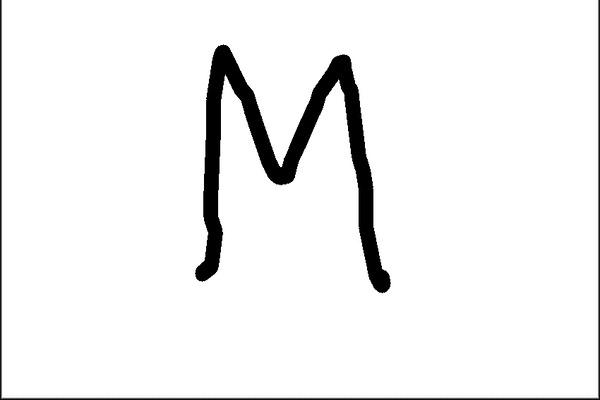M: (197, 41, 392, 296)
